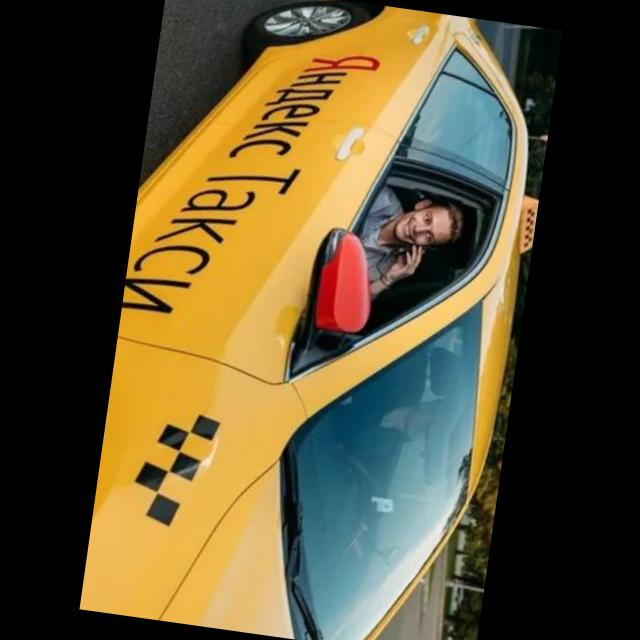taxi: (79, 1, 562, 640)
